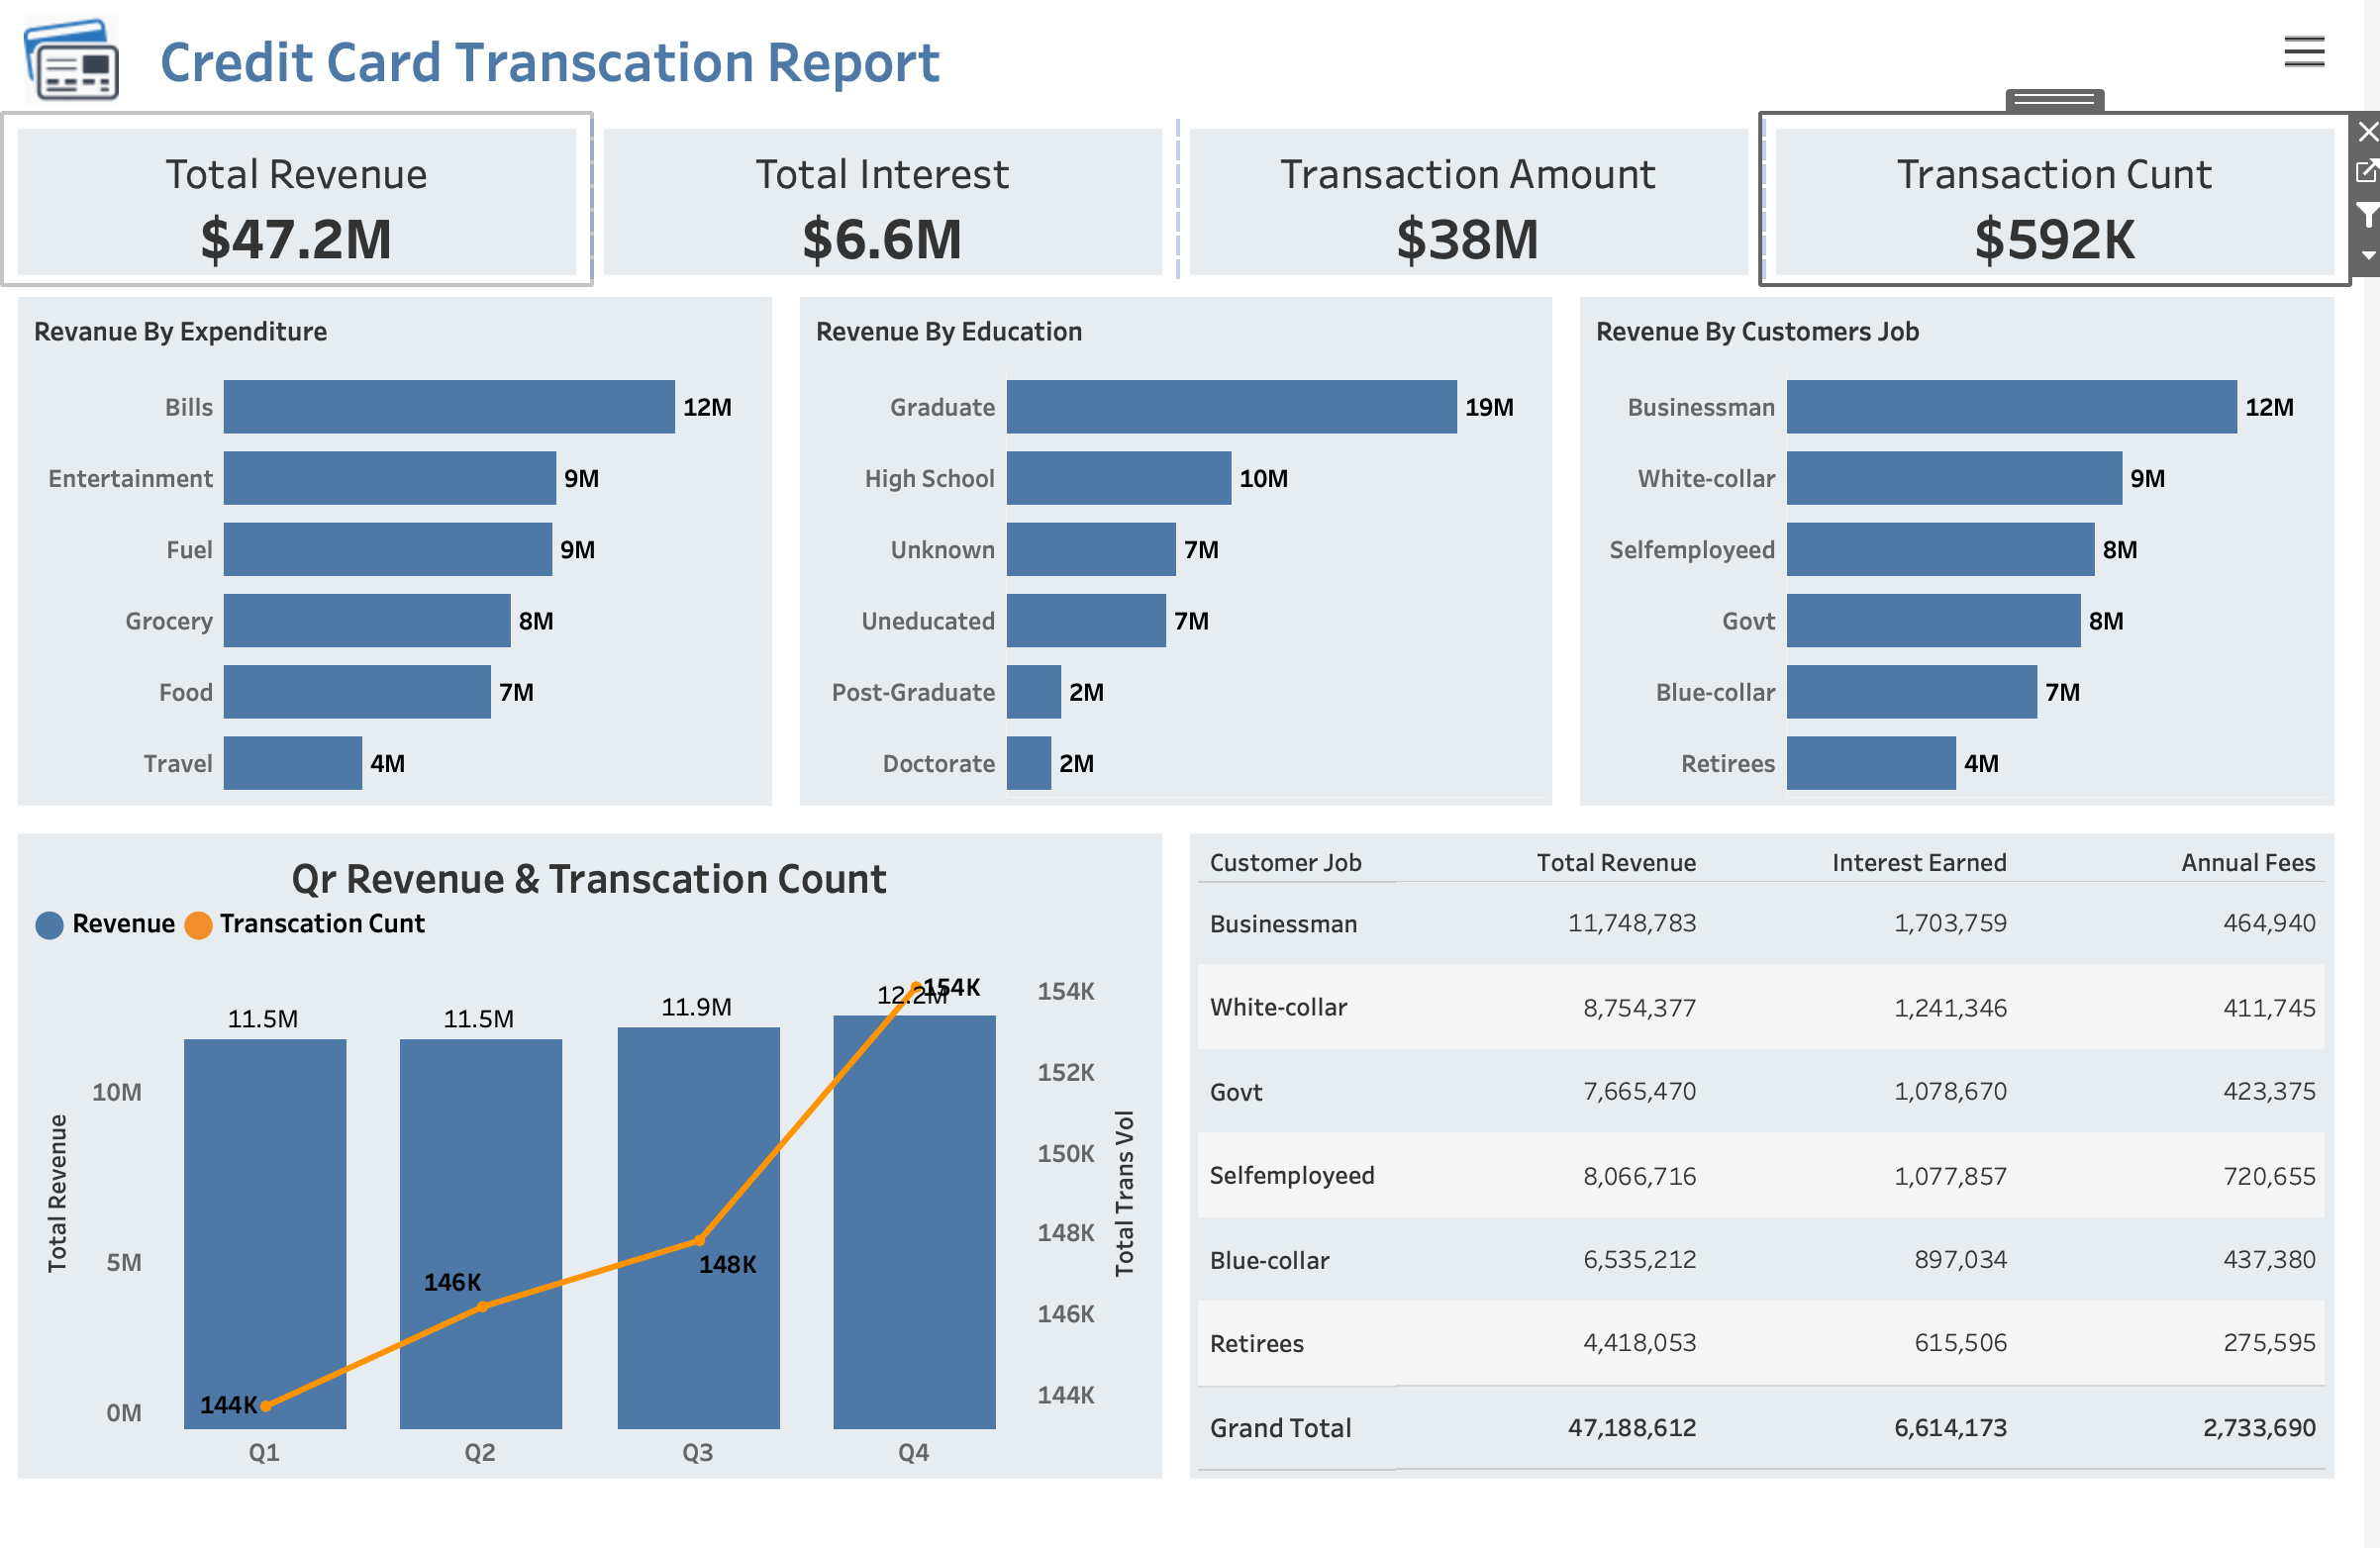

This screenshot's page, from the dashboard's own definition file:
{"tool":"tableau","page":{"name":"Credit Card Transaction","canvas":[1200,800],"ordinal":1},"visuals":[{"type":"image","param":"Image/credit-card-icon-png-4421.png","box":[8,8,68,56]},{"type":"text","box":[76,8,1084,56]},{"type":"blank","box":[946.2,19,138.5,51]},{"type":"dashboard-object","box":[1159,20,22,24]},{"type":"worksheet","title":"Total Revenue","mark":"Automatic","box":[8,64,296,85]},{"type":"worksheet","title":"Total Interest","mark":"Automatic","box":[304,64,296,85]},{"type":"worksheet","title":"Transaction Amount","mark":"Automatic","box":[600,64,296,85]},{"type":"worksheet","title":"Transaction Cunt","mark":"Automatic","box":[896,64,296,85]},{"type":"text","box":[946.2,70,138.5,36]},{"type":"blank","box":[946.2,106,138.5,36]},{"type":"filter","title":"Card Category ","param":"[federated.0793pp11b3wpdm12zqfy71rckgfd].[none:Calculation_914019673268592640:nk","box":[946.2,142,138.5,89]},{"type":"worksheet","title":"Revanue By Expenditure ","mark":"Automatic","rows":["Exp Type"],"cols":["Calculation_914019673271562241"],"box":[8,149,394.7,271]},{"type":"worksheet","title":"Revenue By Education","mark":"Automatic","rows":["Education_Level"],"cols":["Calculation_914019673271562241"],"box":[402.7,149,394.7,271]},{"type":"worksheet","title":"Revenue By Customers Job","mark":"Automatic","rows":["Customer_Job"],"cols":["Calculation_914019673271562241"],"box":[797.3,149,394.7,271]},{"type":"blank","box":[946.2,231,138.5,35]},{"type":"filter","title":"Card Category ","param":"[federated.0793pp11b3wpdm12zqfy71rckgfd].[none:Week_Start_Date:qk]","box":[946.2,266,138.5,69]},{"type":"blank","box":[946.2,335,138.5,32]},{"type":"filter","title":"Card Category ","param":"[federated.0793pp11b3wpdm12zqfy71rckgfd].[none:Gender:nk]","box":[946.2,367,138.5,70]},{"type":"worksheet","title":"Qr Revenue & Transcation Count","mark":"Bar","rows":["Calculation_914019673271562241","Total_Trans_Vol"],"cols":["Qtr"],"box":[8,420,592,340]},{"type":"worksheet","title":"Card Category ","mark":"Automatic","rows":["Customer_Job"],"box":[600,420,592,340]},{"type":"blank","box":[946.2,437,138.5,32]},{"type":"filter","title":"Card Category ","param":"[federated.0793pp11b3wpdm12zqfy71rckgfd].[none:Qtr:nk]","box":[946.2,469,138.5,108]},{"type":"blank","box":[946.2,577,138.5,34]},{"type":"filter","title":"Card Category ","param":"[federated.0793pp11b3wpdm12zqfy71rckgfd].[none:Card_Category:nk]","box":[946.2,611,138.5,108]}]}

Visuals, with their boxes in screenshot pixels (x1, y1, x2, y2), scaled from the page's 1200x800 canvas onto the 2380x1548 screenshot:
image: 16 16 150 124
text: 150 16 2301 124
blank: 1877 37 2151 136
dashboard-object: 2299 39 2342 85
"Total Revenue" worksheet: 16 124 603 288
"Total Interest" worksheet: 603 124 1190 288
"Transaction Amount" worksheet: 1190 124 1777 288
"Transaction Cunt" worksheet: 1777 124 2364 288
text: 1877 136 2151 205
blank: 1877 205 2151 275
"Card Category " filter: 1877 275 2151 447
"Revanue By Expenditure " worksheet: 16 288 799 813
"Revenue By Education" worksheet: 799 288 1581 813
"Revenue By Customers Job" worksheet: 1581 288 2364 813
blank: 1877 447 2151 515
"Card Category " filter: 1877 515 2151 648
blank: 1877 648 2151 710
"Card Category " filter: 1877 710 2151 845
"Qr Revenue & Transcation Count" worksheet (Bar marks): 16 813 1190 1471
"Card Category " worksheet: 1190 813 2364 1471
blank: 1877 845 2151 908
"Card Category " filter: 1877 908 2151 1116
blank: 1877 1116 2151 1183
"Card Category " filter: 1877 1183 2151 1392
